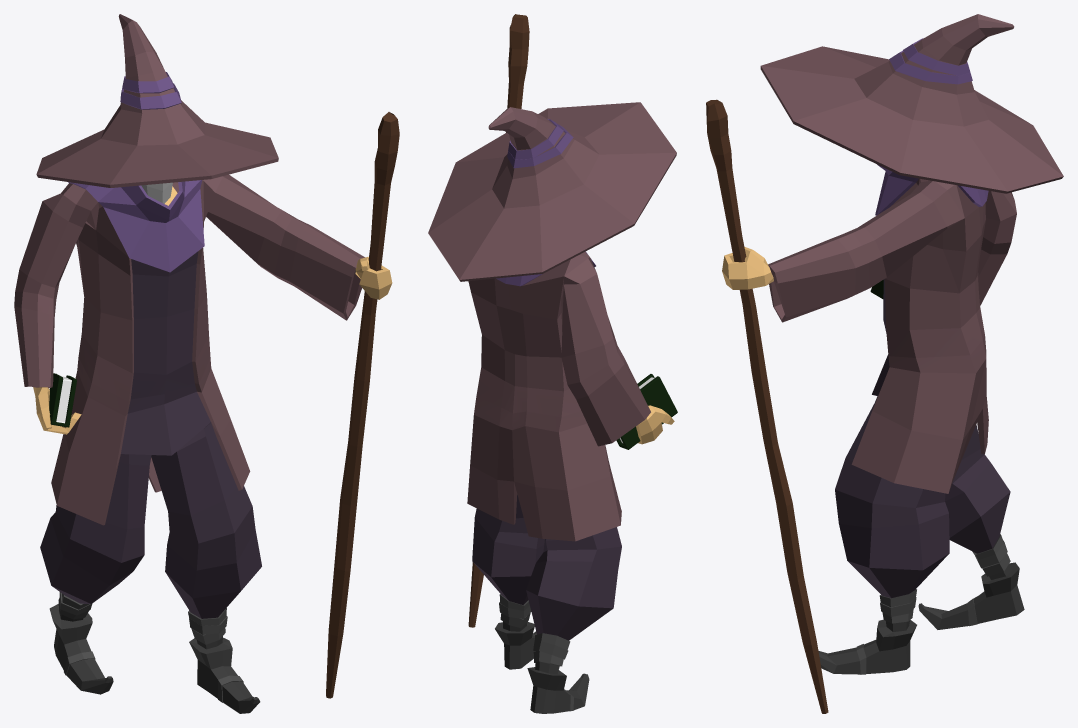
The model's file is sketchfabWizard.fbx.
The picture shows the model from 3 angles, left to right: view 1: azimuth 30°, elevation 25°; view 2: azimuth 150°, elevation 25°; view 3: azimuth 270°, elevation 25°; orthographic projection. The views are drawn at different scales.
Visible parts, largest first — view 1: Main_Mesh, Staff, Cube.003; view 2: Main_Mesh, Staff, Cube.003; view 3: Main_Mesh, Staff.
Part boxes in pixels (x1,y1,x2,y2): Main_Mesh: (14, 14, 392, 713); Staff: (326, 112, 399, 698); Cube.003: (49, 373, 76, 427); Main_Mesh: (428, 102, 676, 713); Staff: (468, 14, 529, 627); Cube.003: (616, 374, 677, 449); Main_Mesh: (722, 14, 1063, 674); Staff: (706, 99, 828, 713).
Size of the model in its own units: 82.58 by 192 by 96.93.
